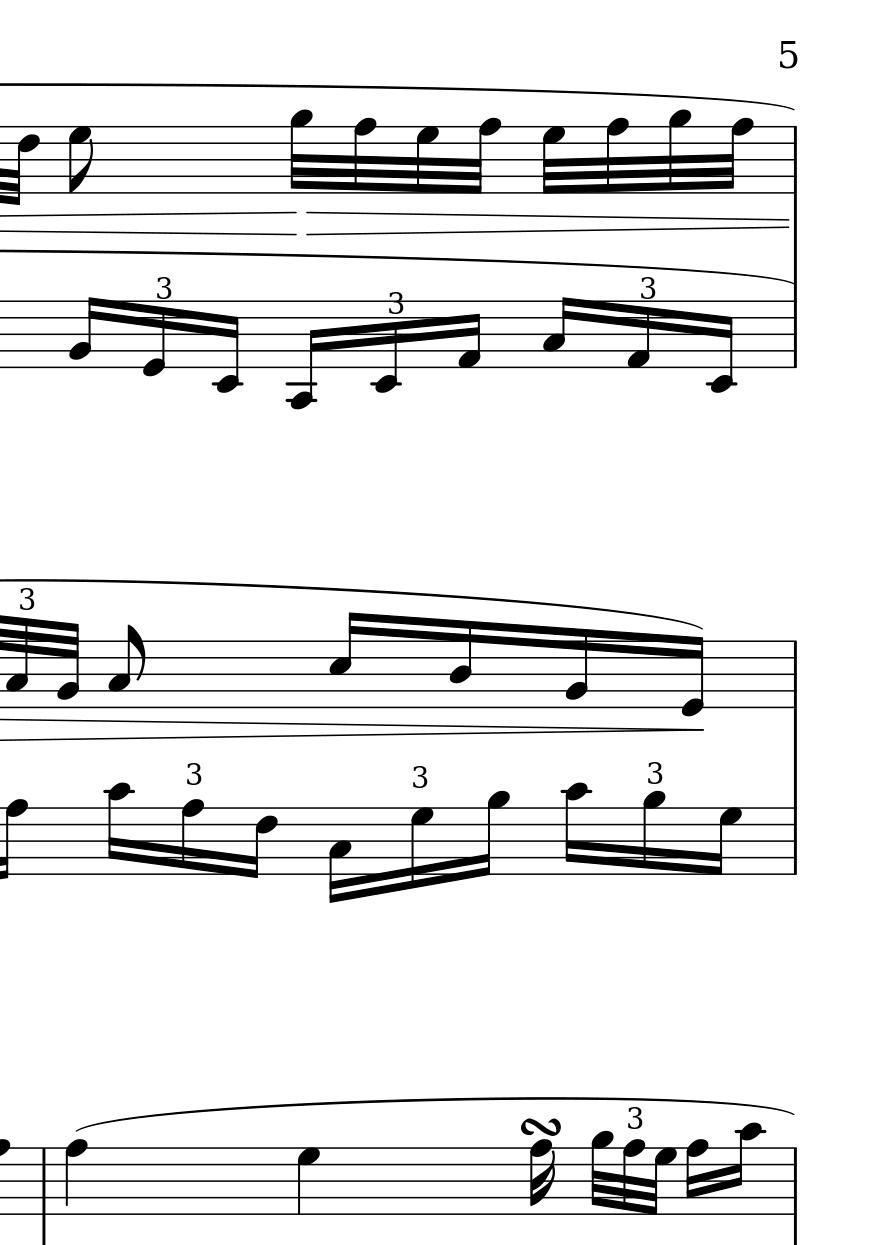16_-2: (371, 299, 399, 394), (707, 300, 734, 394), (213, 299, 239, 395)
16_-4: (284, 298, 322, 411)
16_0: (140, 299, 168, 378), (680, 635, 702, 724)
16_1: (625, 300, 653, 371), (456, 299, 483, 371)
16_10: (730, 1121, 765, 1217), (562, 781, 590, 877), (105, 782, 132, 878)
16_2: (67, 295, 99, 371), (564, 627, 590, 710)
16_3: (326, 806, 352, 905), (541, 296, 572, 370)
16_4: (448, 618, 474, 708)
16_5: (328, 610, 361, 708)
16_6: (245, 805, 277, 881)
16_7: (708, 805, 742, 877), (408, 803, 434, 892)
16_8: (528, 1137, 556, 1216), (1, 797, 26, 881), (179, 797, 203, 877)
16_9: (475, 789, 509, 879), (641, 788, 665, 875), (684, 1136, 708, 1217)
3: (385, 290, 406, 317), (17, 584, 36, 612), (638, 275, 657, 301), (625, 1105, 644, 1131), (154, 275, 172, 301), (184, 761, 202, 787), (411, 765, 429, 790), (647, 760, 663, 786)
32_2: (54, 620, 80, 710)
32_3: (5, 616, 29, 710)
32_6: (8, 124, 39, 207)
32_7: (646, 1146, 676, 1217), (539, 123, 566, 197), (414, 124, 440, 195)
32_8: (467, 117, 500, 196), (723, 117, 754, 197), (620, 1138, 645, 1218), (604, 117, 629, 196), (352, 116, 376, 196)
32_9: (666, 106, 692, 199), (288, 108, 313, 196), (590, 1128, 614, 1219)
4_7: (295, 1145, 321, 1216)
4_8: (63, 1138, 88, 1217)
5: (779, 38, 798, 69)
8_3: (107, 623, 145, 707)
8_7: (66, 125, 94, 195)
Single_barline: (786, 301, 803, 368), (36, 1147, 52, 1215), (787, 641, 803, 708), (787, 808, 802, 874), (788, 126, 802, 194), (788, 1147, 802, 1215)
Turn: (516, 1116, 564, 1137)
